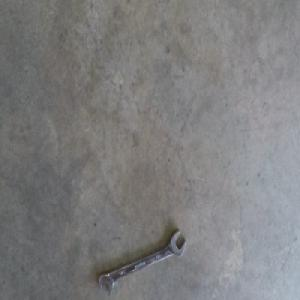Wrench: (97, 231, 186, 292)
